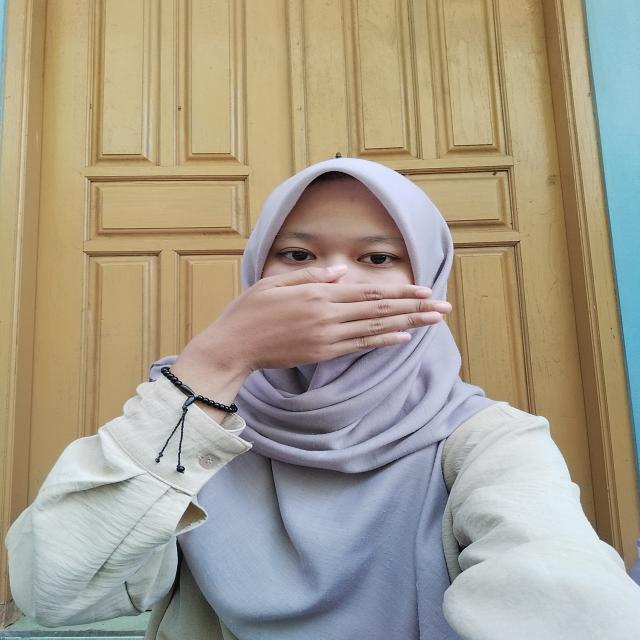buruk: (153, 262, 460, 393)
